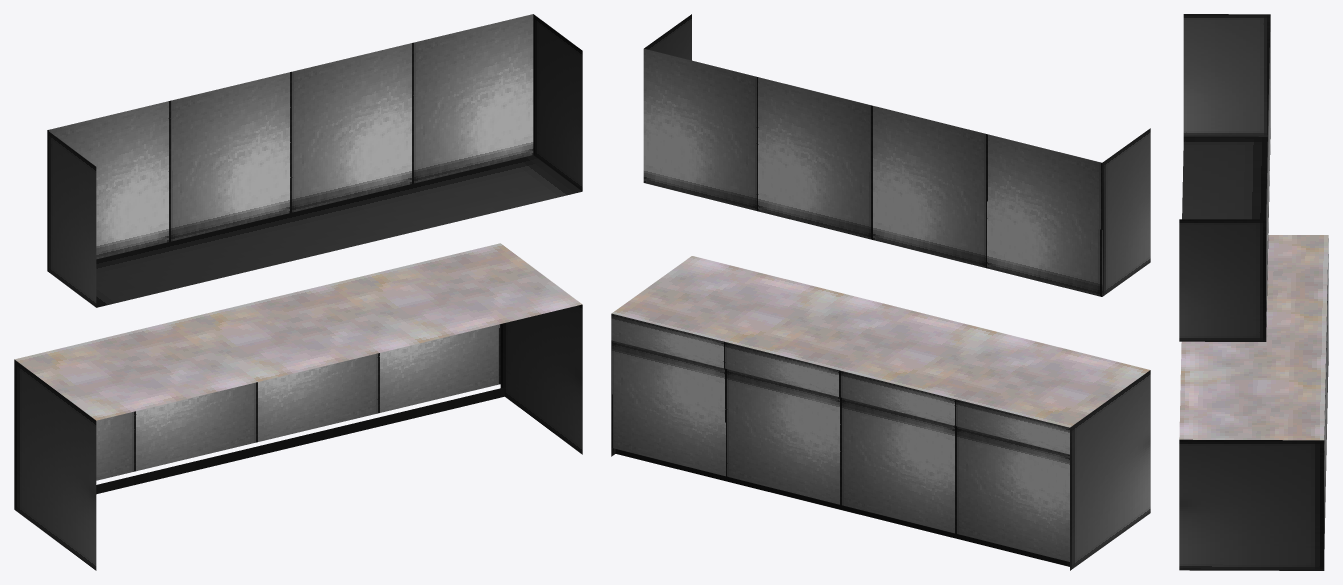
File: primary_135.glb
The picture shows the model from 3 angles, left to right: view 1: azimuth 30°, elevation 25°; view 2: azimuth 150°, elevation 25°; view 3: azimuth 270°, elevation 25°; orthographic projection. The views are drawn at different scales.
Parts seen in each view (by area): view 1: Object; view 2: Object; view 3: Object.
Part boxes in pixels (x1,y1,x2,y2): Object: [14, 14, 582, 570]; Object: [611, 14, 1150, 570]; Object: [1179, 14, 1328, 570].
Bounding box in the file's own units: 3.56 × 2.84 × 1.09.
7 materials, 7 textured.
